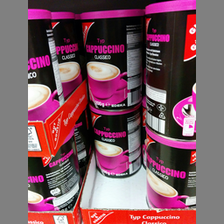coffee: (143, 1, 195, 140), (79, 8, 142, 110), (87, 102, 144, 179), (144, 127, 196, 208)
